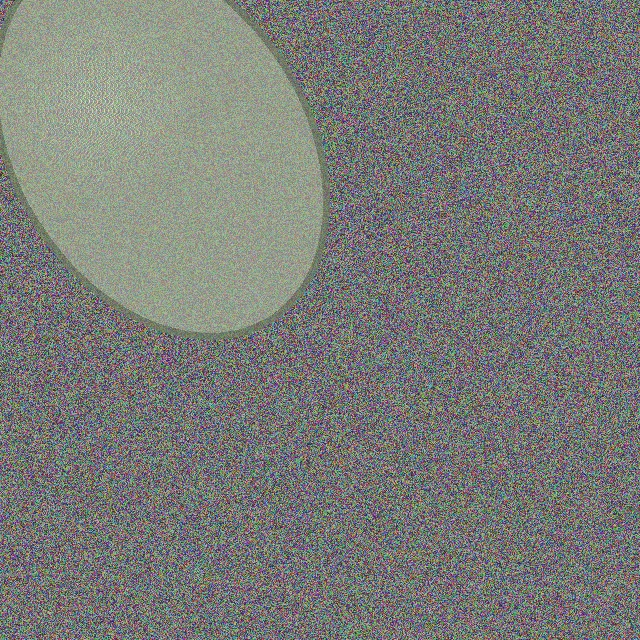lens: (0, 0, 326, 335)
